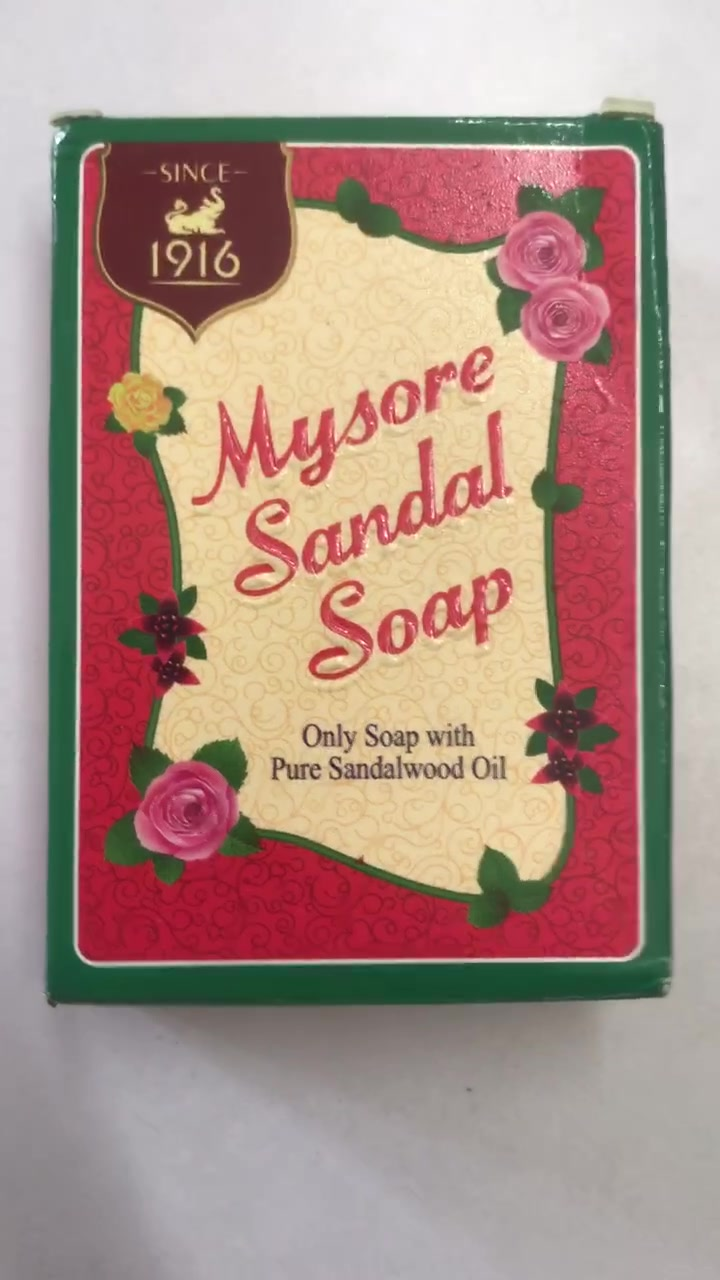mysore sandal soap: (56, 130, 652, 980)
